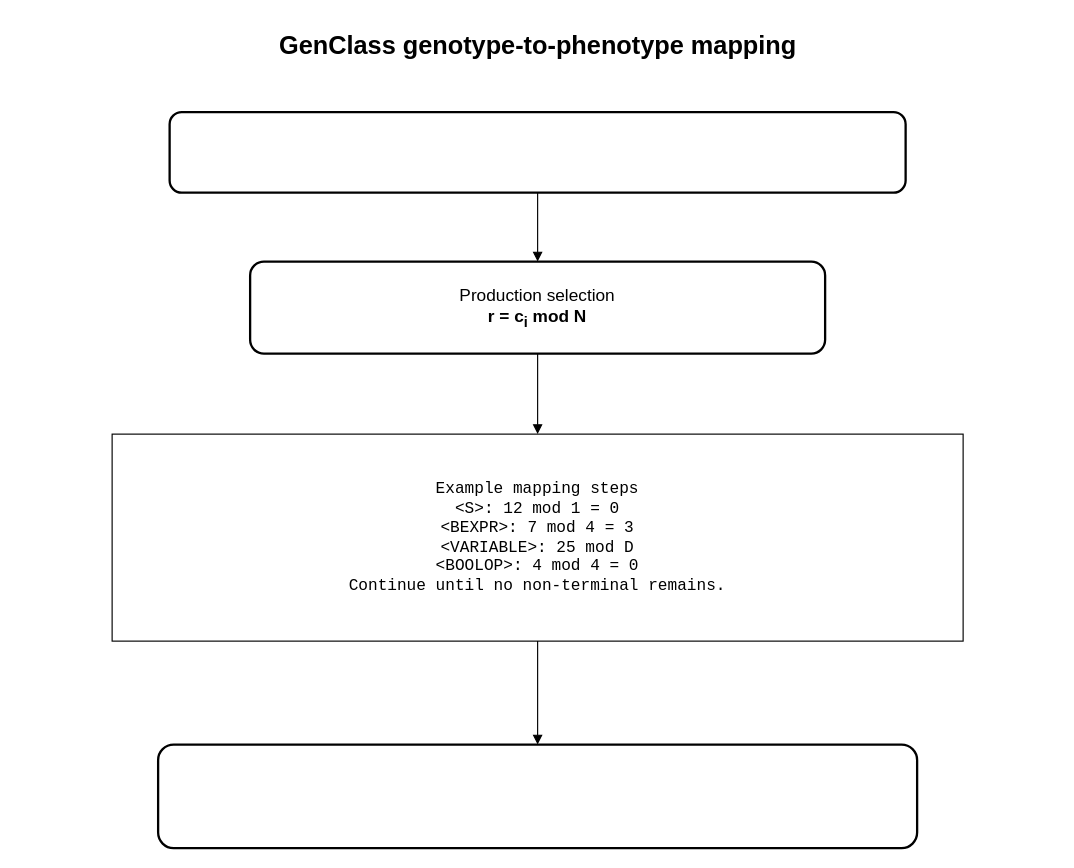
Some shapes in this 1074 by 868 pixel diagram are drawn without their labels. Each missing label, with the centre of its shape:
Generated C-like classification program if ( ... ) CLASS=0 else CLASS=1: [537,796]
Integer chromosome [12] [7] [25] [4] [18] [9] ...: [537,151]
